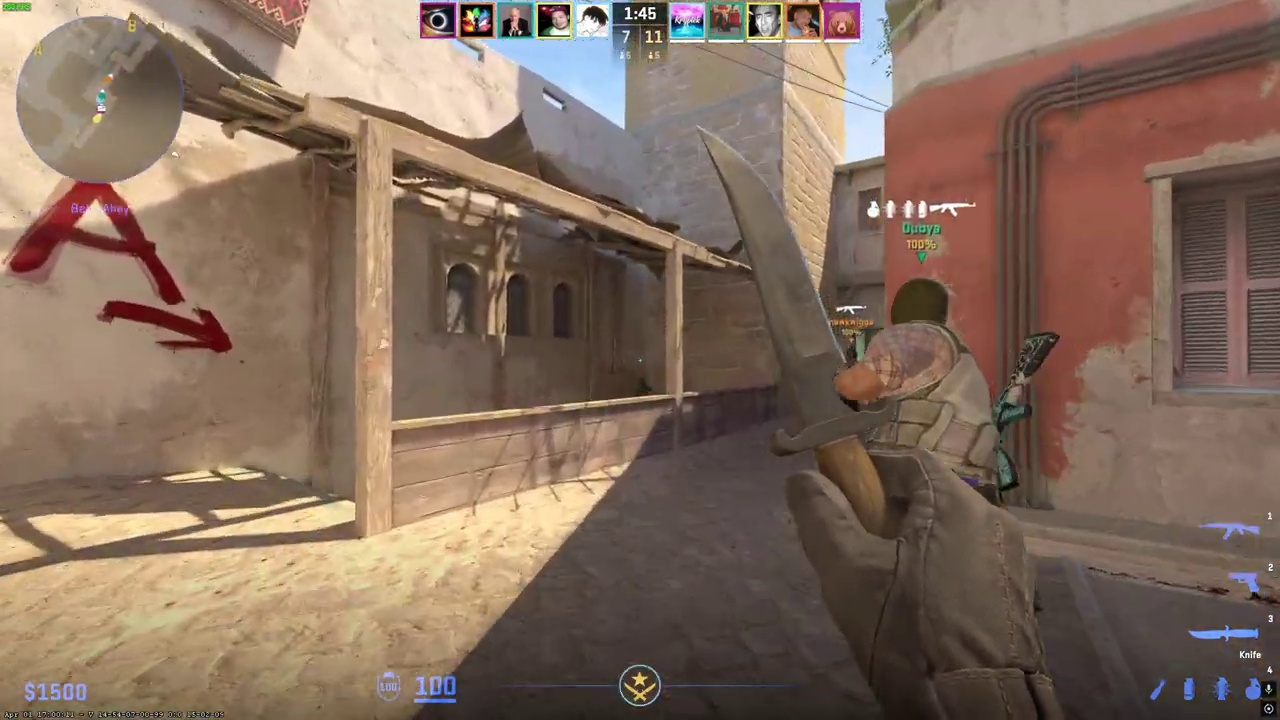Terrorist: (836, 278, 1000, 486)
